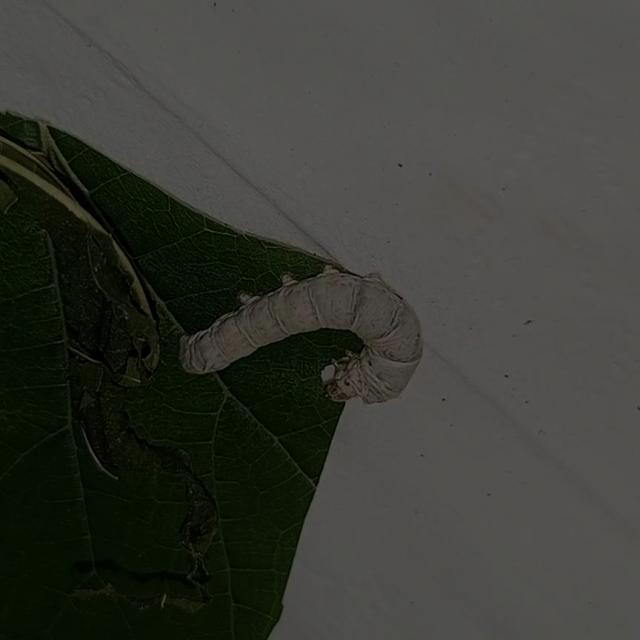Healthy: (170, 256, 430, 418)
